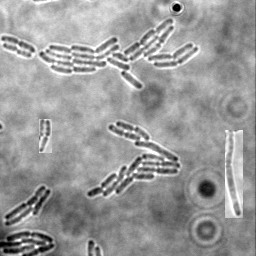Dividing: (225, 130, 243, 218), (1, 34, 37, 52), (3, 41, 33, 57), (39, 119, 52, 153)
Microcolony: (40, 18, 199, 89), (87, 120, 181, 197), (5, 184, 52, 226), (1, 230, 56, 255)
